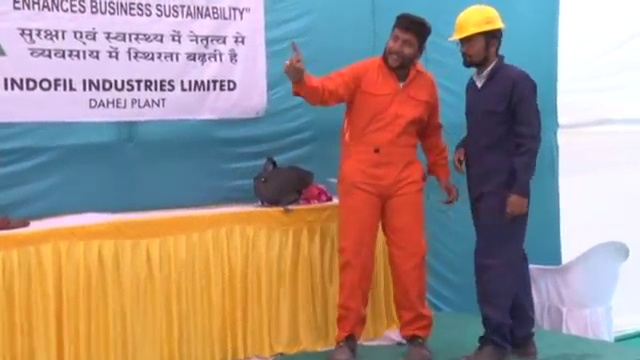helmet: (447, 3, 505, 41)
helmet_off: (381, 12, 432, 74)
helmet_on: (447, 3, 508, 72)
person: (286, 9, 457, 360), (447, 1, 546, 360)
